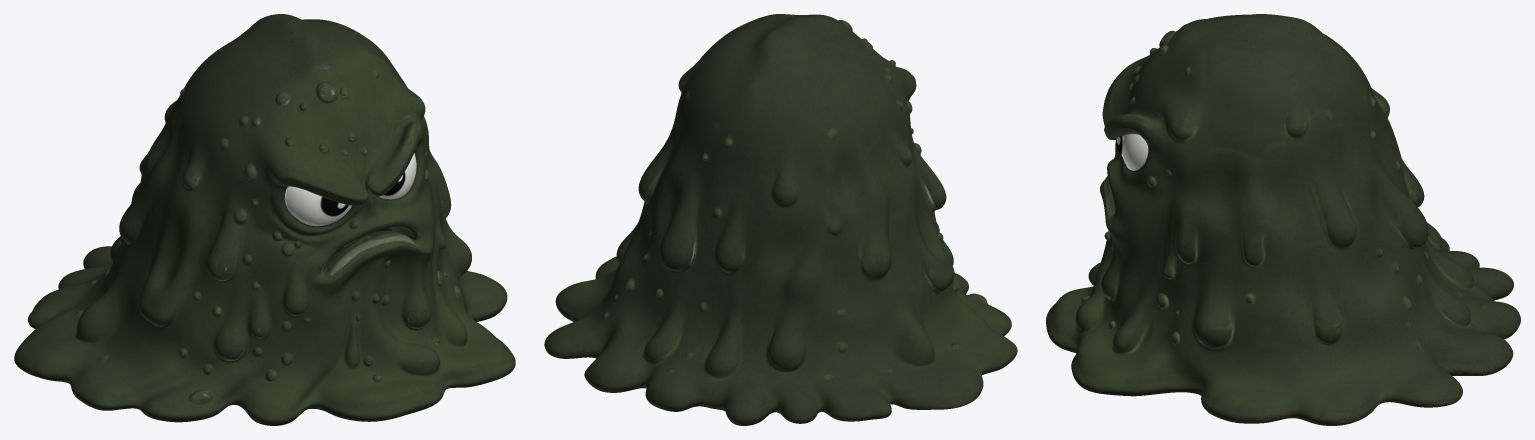
The model's file is grumpy_slime.glb.
3 views of the same model, side by side, from view 1: azimuth 30°, elevation 25°; view 2: azimuth 150°, elevation 25°; view 3: azimuth 270°, elevation 25° (orthographic). The views are drawn at different scales.
Bounding box in the file's own units: 1.9 × 1.29 × 1.78.
1 material, 1 textured.
